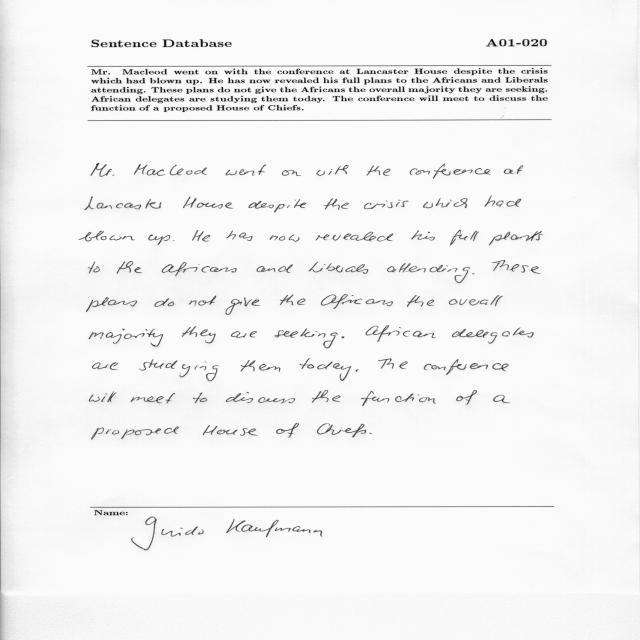word: (140, 360, 219, 382), (387, 263, 470, 283), (424, 359, 509, 375), (89, 329, 163, 347), (452, 328, 534, 344), (275, 329, 338, 349), (410, 164, 490, 179), (366, 325, 436, 342), (300, 358, 351, 381), (92, 427, 179, 440), (361, 391, 436, 406), (321, 294, 393, 309), (162, 262, 237, 276), (85, 197, 162, 210), (134, 164, 207, 176), (316, 232, 393, 242), (86, 297, 137, 312), (226, 392, 295, 403), (489, 231, 543, 245), (249, 200, 307, 213), (317, 423, 366, 438), (309, 262, 368, 274), (492, 260, 541, 274), (226, 297, 261, 315), (203, 425, 258, 436), (183, 197, 233, 209), (449, 295, 503, 306), (182, 326, 216, 343), (79, 231, 135, 241), (241, 360, 281, 372), (226, 165, 267, 176), (423, 198, 467, 208), (131, 393, 175, 403), (450, 230, 479, 245), (364, 200, 409, 209), (485, 196, 521, 207), (312, 390, 340, 403), (316, 165, 349, 176), (276, 423, 299, 438), (378, 358, 408, 369), (117, 261, 142, 274), (257, 264, 293, 273), (407, 295, 434, 307), (91, 163, 114, 177), (456, 390, 477, 405), (324, 198, 349, 210), (189, 296, 216, 307), (90, 391, 117, 402), (226, 230, 252, 241), (367, 165, 391, 176), (280, 295, 306, 305), (411, 231, 435, 241), (148, 235, 170, 245), (270, 235, 300, 242), (92, 362, 118, 370), (192, 230, 210, 241), (231, 331, 257, 338), (155, 298, 175, 307), (504, 165, 523, 174), (193, 393, 207, 404), (493, 395, 511, 403), (88, 262, 100, 273), (282, 170, 301, 176), (355, 369, 359, 372), (342, 337, 345, 339), (369, 432, 372, 434), (173, 240, 175, 241), (473, 273, 475, 274)
